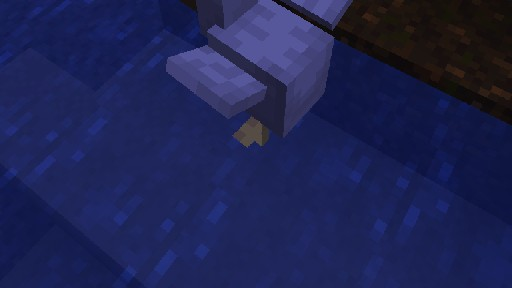chicken: (165, 0, 361, 147)
